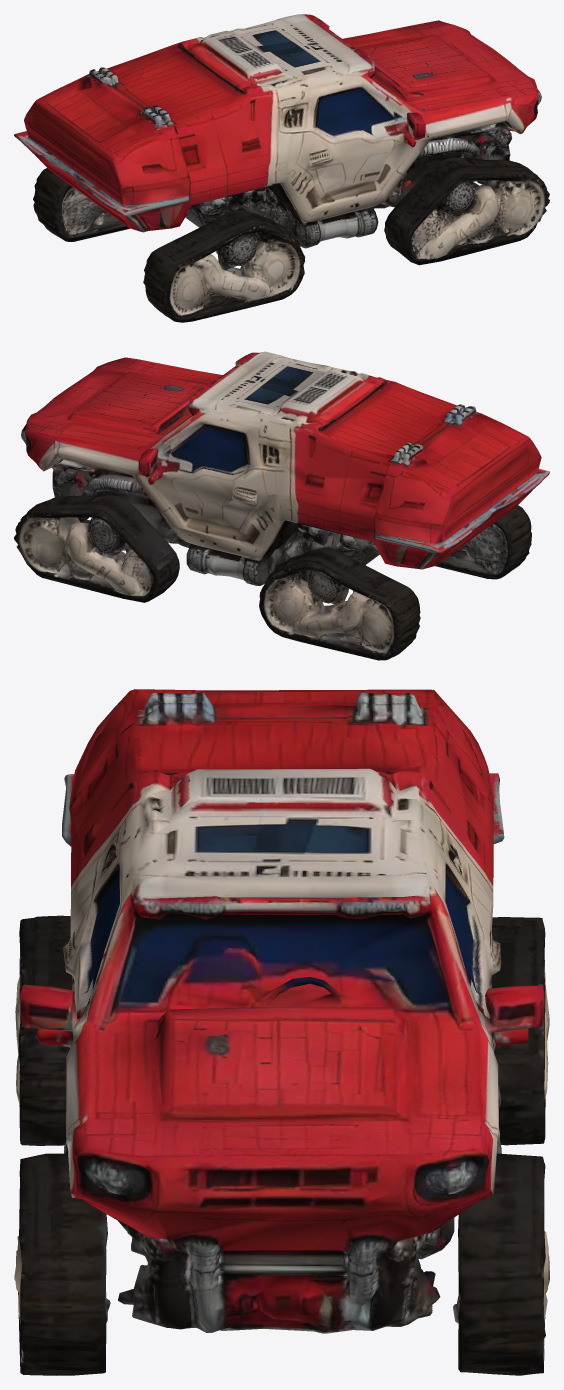
The model's file is city-truck.glb.
The picture shows the model from 3 angles, top to bottom: view 1: azimuth 30°, elevation 25°; view 2: azimuth 150°, elevation 25°; view 3: azimuth 270°, elevation 25°; orthographic projection. The views are drawn at different scales.
Parts seen in each view (by area): view 1: texture_v128_online.001; view 2: texture_v128_online.001; view 3: texture_v128_online.001.
Part boxes in pixels (x1=…): texture_v128_online.001: x1=14, y1=14, x2=549, y2=322; texture_v128_online.001: x1=14, y1=351, x2=549, y2=660; texture_v128_online.001: x1=14, y1=689, x2=549, y2=1375.
Bounding box in the file's own units: 2 × 0.8459 × 1.06.
Materials: 1 (1 with a texture image).
